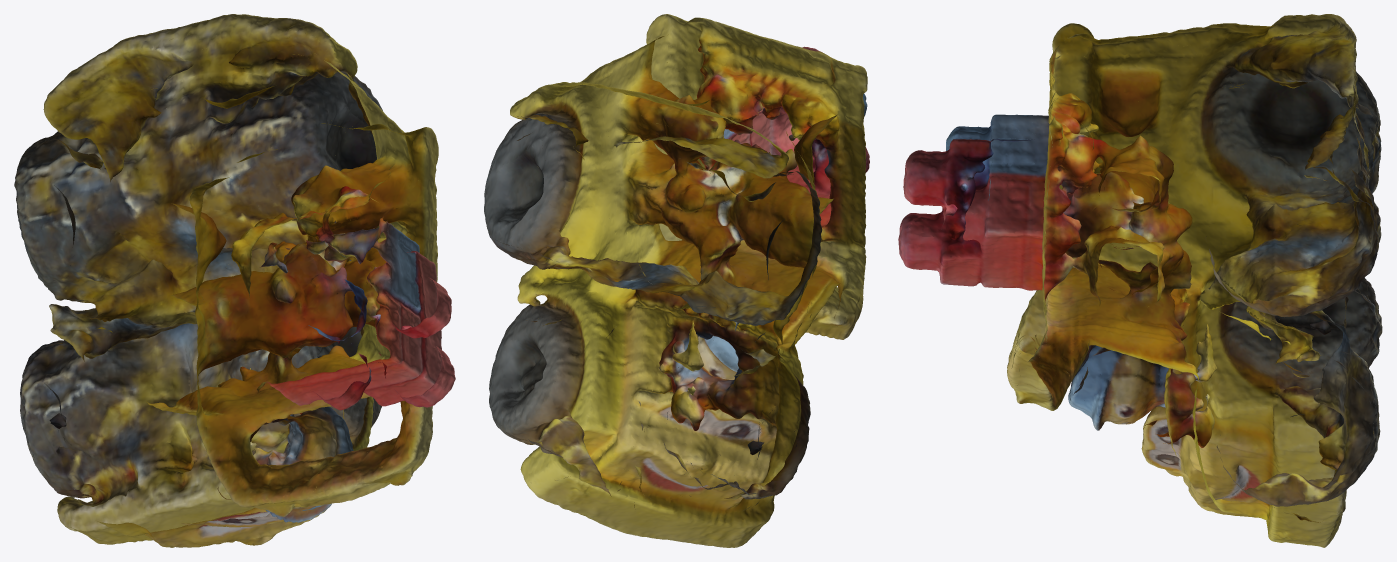
File: school_bus2.glb
3 views of the same model, side by side, from view 1: azimuth 30°, elevation 25°; view 2: azimuth 150°, elevation 25°; view 3: azimuth 270°, elevation 25° (orthographic). The views are drawn at different scales.
Size of the model in its own units: 0.6855 by 1 by 0.9605.
